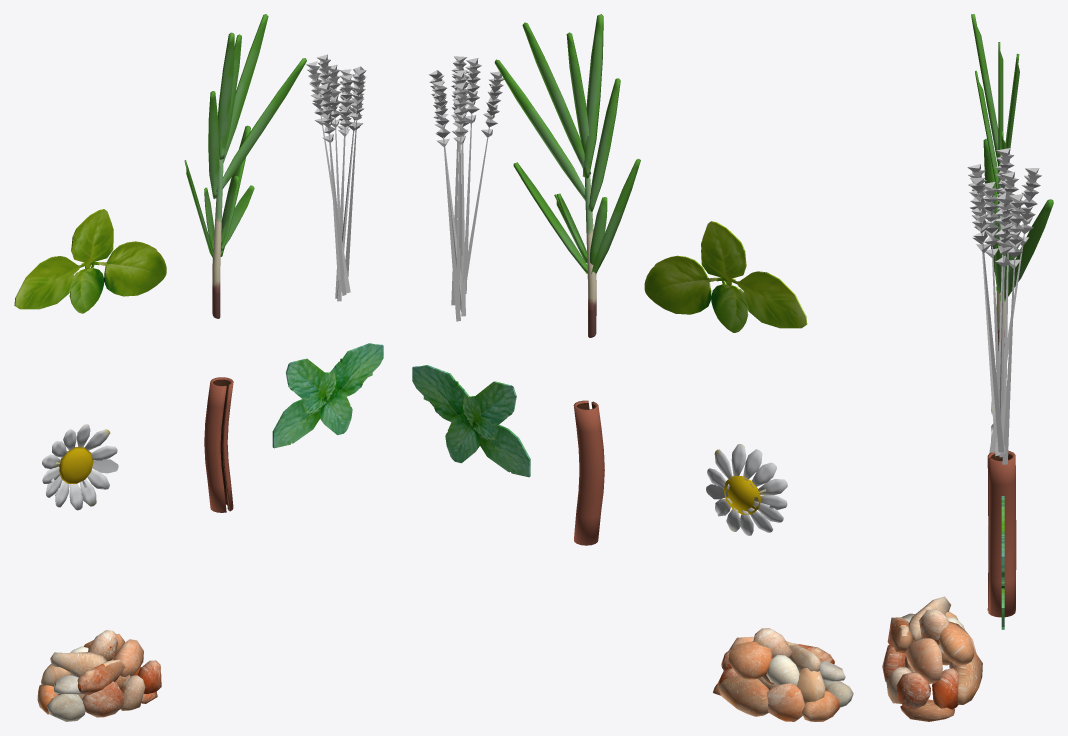
The model's file is Ingredients.fbx.
3 views of the same model, side by side, from view 1: azimuth 30°, elevation 25°; view 2: azimuth 150°, elevation 25°; view 3: azimuth 270°, elevation 25° (orthographic). The views are drawn at different scales.
Parts seen in each view (by area): view 1: Rosemary, Basil, Peppermint, Lavender, Chamomile, Cinnamon, HimalayanRockSalt.001, HimalayanRockSalt.004, HimalayanRockSalt.009, HimalayanRockSalt, HimalayanRockSalt.008, HimalayanRockSalt.002 (+2 smaller); view 2: Rosemary, Basil, Peppermint, Lavender, Chamomile, Cinnamon, HimalayanRockSalt.017, HimalayanRockSalt.013, HimalayanRockSalt.015, HimalayanRockSalt.012, HimalayanRockSalt.016, HimalayanRockSalt.010; view 3: Lavender, Rosemary, Cinnamon, HimalayanRockSalt.008, HimalayanRockSalt.013, HimalayanRockSalt.006, HimalayanRockSalt.017, HimalayanRockSalt.011, HimalayanRockSalt.014, HimalayanRockSalt.018, HimalayanRockSalt.004, HimalayanRockSalt.009 (+3 smaller).
Part boxes in pixels (x1,y1,x2,y2): Rosemary: [184, 14, 306, 318]; Basil: [14, 209, 166, 313]; Peppermint: [272, 343, 383, 448]; Lavender: [306, 54, 366, 301]; Chamomile: [42, 424, 118, 510]; Cinnamon: [204, 377, 233, 512]; HimalayanRockSalt.001: [82, 681, 124, 717]; HimalayanRockSalt.004: [77, 659, 125, 695]; HimalayanRockSalt.009: [50, 652, 106, 677]; HimalayanRockSalt: [47, 694, 85, 721]; HimalayanRockSalt.008: [113, 639, 143, 676]; HimalayanRockSalt.002: [120, 675, 145, 710]; Rosemary: [494, 14, 640, 337]; Basil: [644, 221, 807, 332]; Peppermint: [412, 365, 530, 477]; Lavender: [429, 56, 504, 321]; Chamomile: [706, 444, 787, 535]; Cinnamon: [573, 400, 604, 545]; HimalayanRockSalt.017: [718, 676, 768, 716]; HimalayanRockSalt.013: [728, 641, 772, 679]; HimalayanRockSalt.015: [766, 683, 804, 721]; HimalayanRockSalt.012: [802, 690, 839, 721]; HimalayanRockSalt.016: [766, 654, 799, 685]; HimalayanRockSalt.010: [797, 668, 825, 703]; Lavender: [967, 148, 1041, 464]; Rosemary: [971, 14, 1053, 350]; Cinnamon: [987, 450, 1016, 617]; HimalayanRockSalt.008: [905, 638, 942, 683]; HimalayanRockSalt.013: [939, 621, 974, 665]; HimalayanRockSalt.006: [896, 672, 930, 709]; HimalayanRockSalt.017: [954, 651, 982, 704]; HimalayanRockSalt.011: [932, 668, 959, 709]; HimalayanRockSalt.014: [919, 609, 949, 644]; HimalayanRockSalt.018: [900, 699, 954, 721]; HimalayanRockSalt.004: [887, 617, 914, 652]; HimalayanRockSalt.009: [908, 596, 950, 641].
Size of the model in its own units: 558 by 894 by 181.
